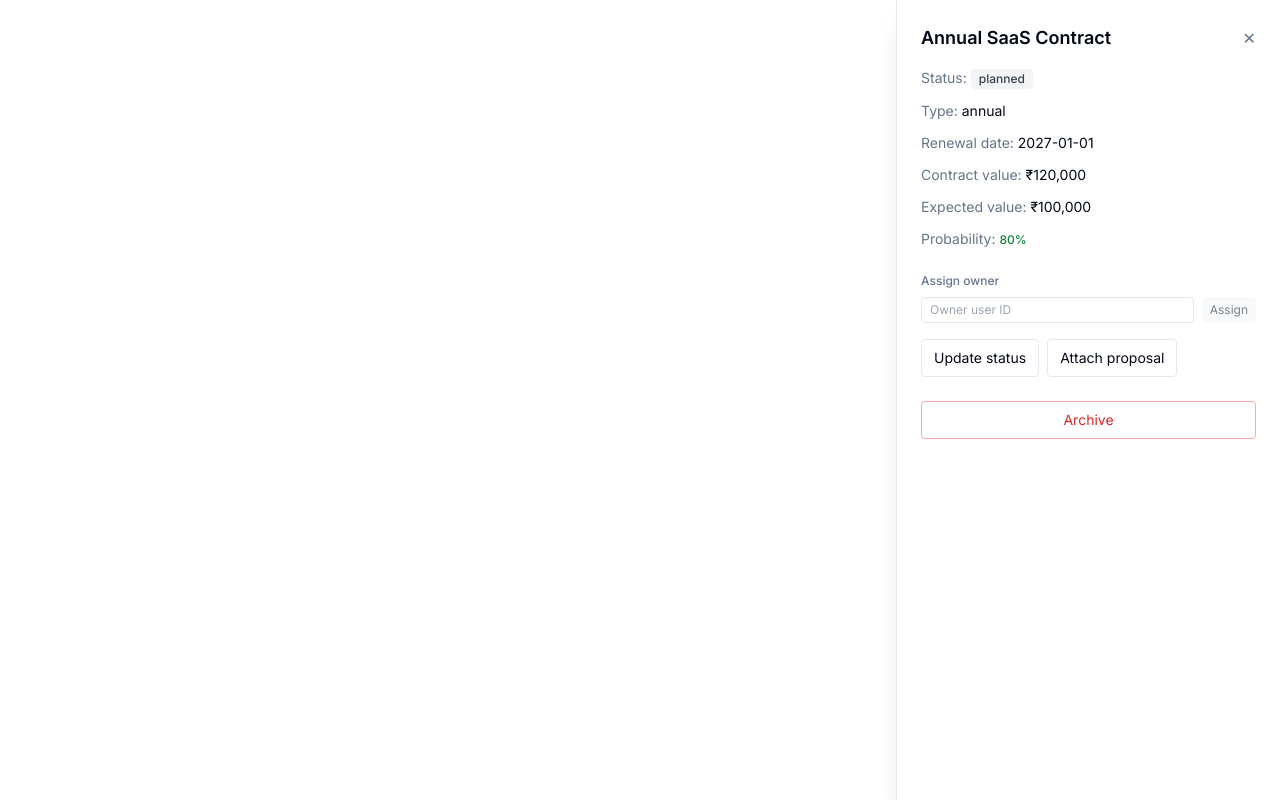
Test: RenewalDrawer › shows proposal attach dialog when button clicked
This screenshot has width=1280, height=800.
Click the button with test id "attach-proposal-btn". click: click(1112, 358)
box: [1047, 339, 1177, 377]
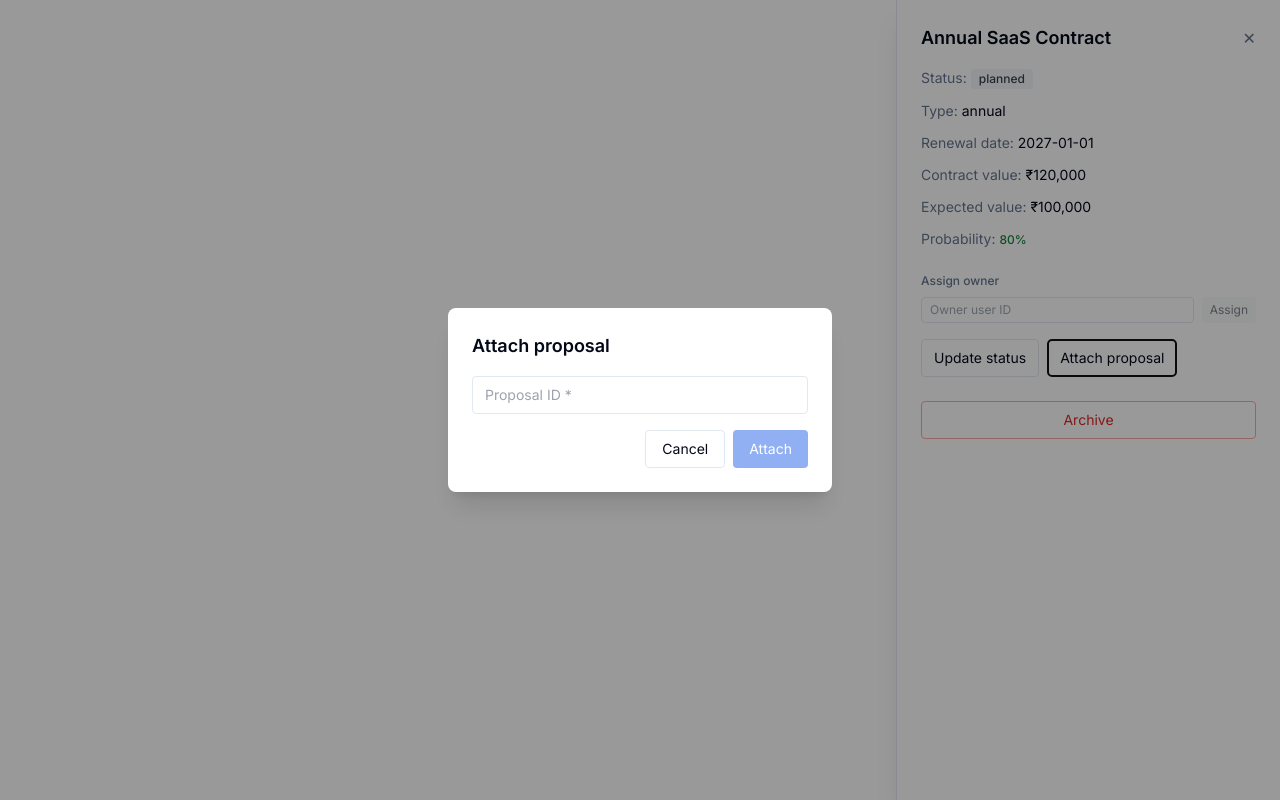
Check: the element with test id "proposal-attach-dialog" is shown
